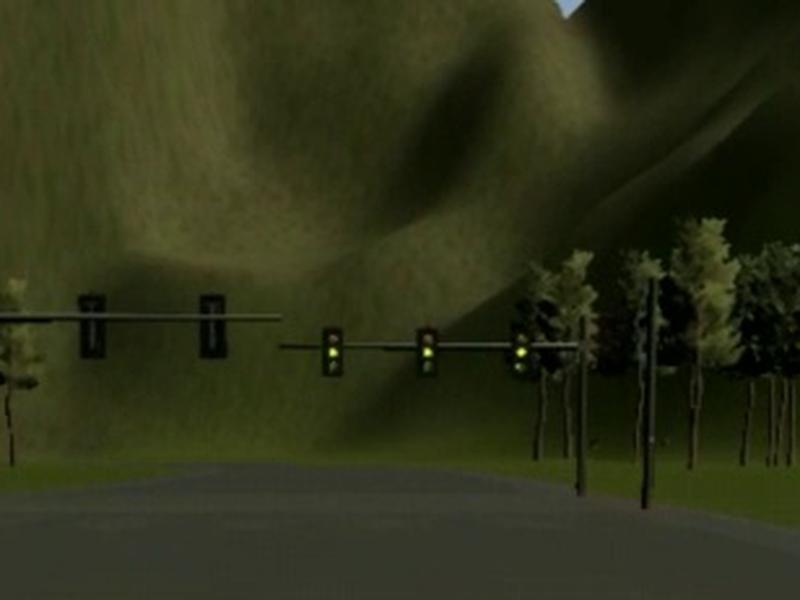Yellow: (415, 327, 440, 379), (509, 328, 532, 382), (321, 326, 343, 376)
